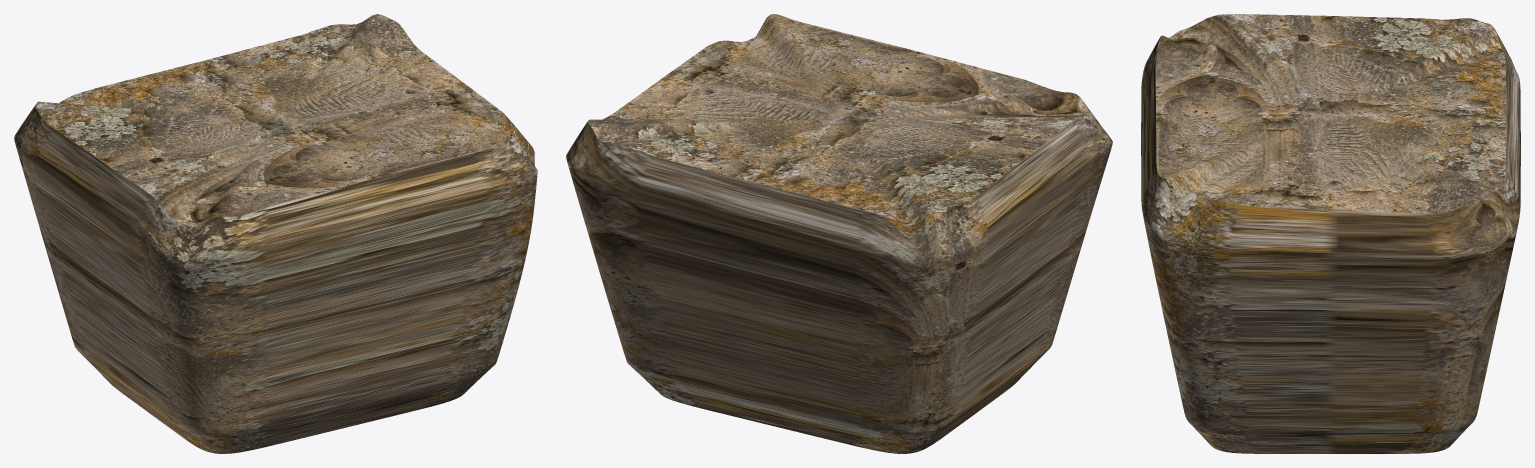
File: voussoir.glb
The picture shows the model from 3 angles, left to right: view 1: azimuth 30°, elevation 25°; view 2: azimuth 150°, elevation 25°; view 3: azimuth 270°, elevation 25°; orthographic projection. The views are drawn at different scales.
Parts seen in each view (by area): view 1: voussoir; view 2: voussoir; view 3: voussoir.
Part boxes in pixels (<box>): voussoir: <box>14,14,537,453</box>; voussoir: <box>566,14,1112,453</box>; voussoir: <box>1141,14,1520,453</box>.
Bounding box in the file's own units: 0.9224 × 0.6005 × 0.7339.
Materials: 1 (1 with a texture image).
